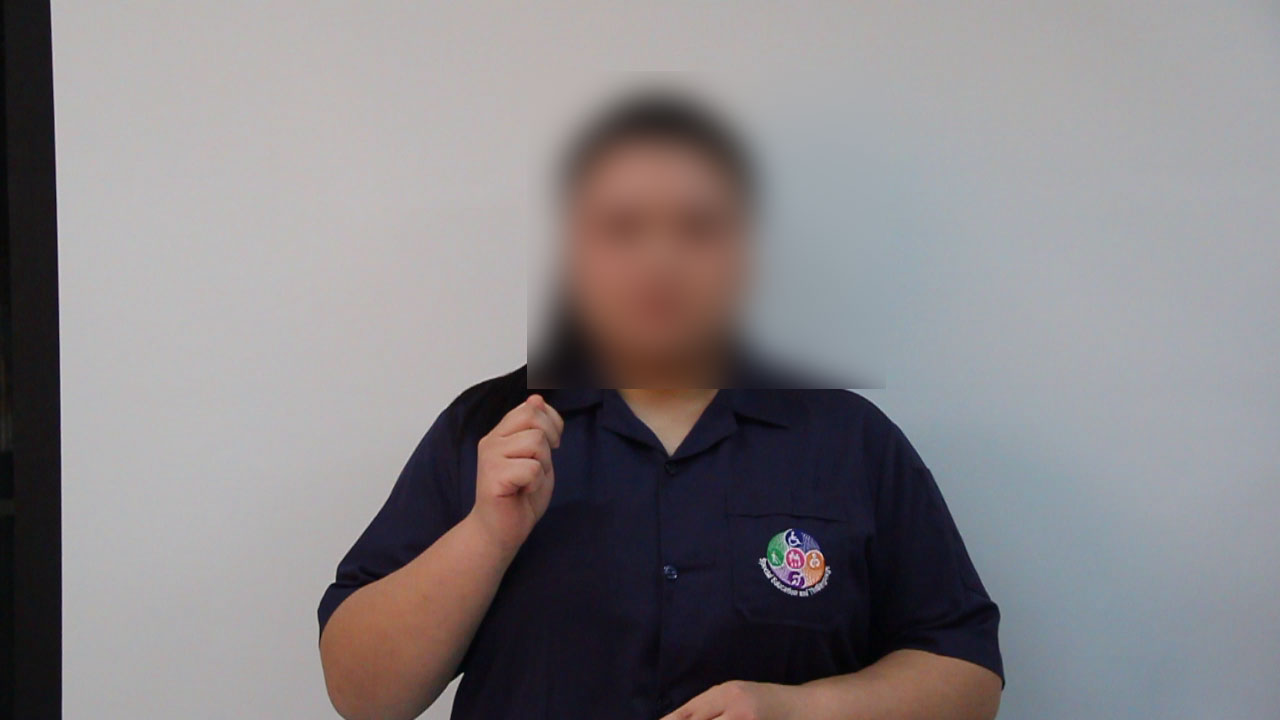tor: (453, 379, 608, 548)
